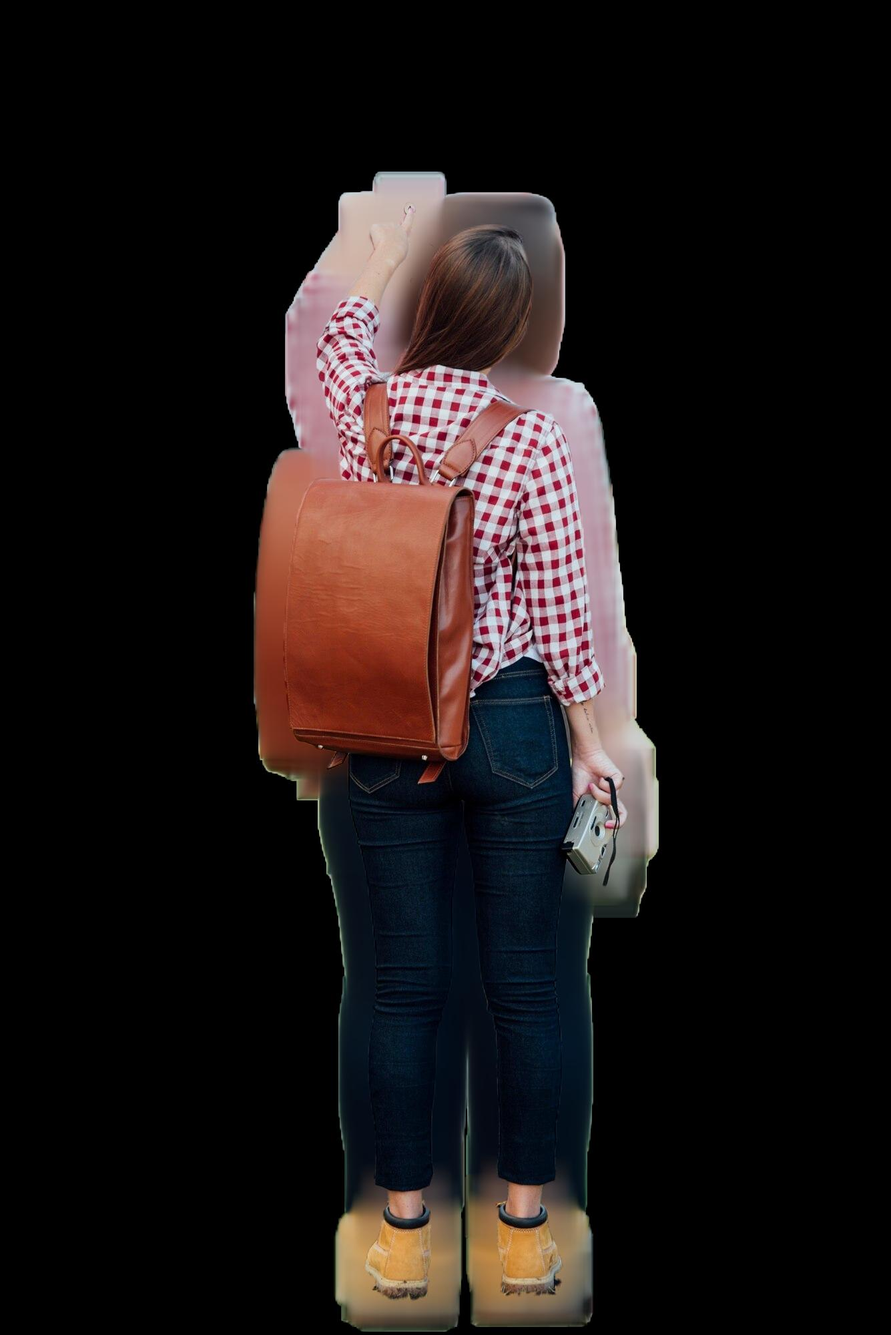Human: (255, 191, 670, 1303)
